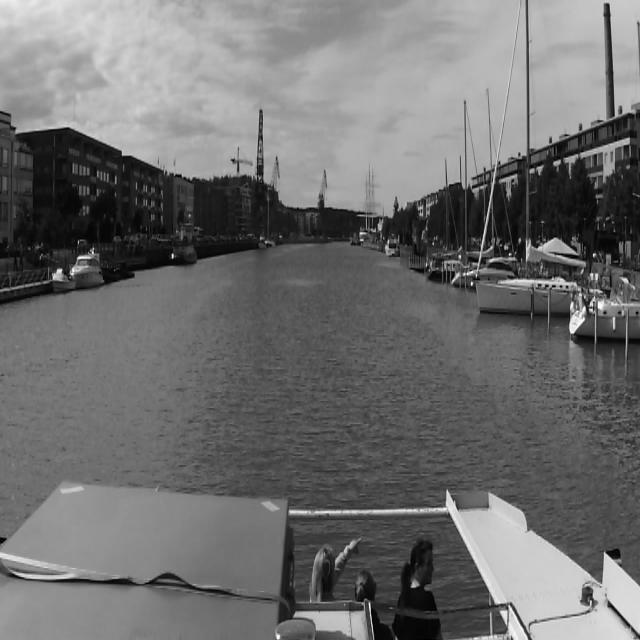ship: (476, 0, 566, 316), (568, 287, 640, 339), (356, 163, 382, 247), (76, 247, 104, 289), (171, 222, 197, 267), (262, 184, 275, 250), (49, 266, 75, 294)
